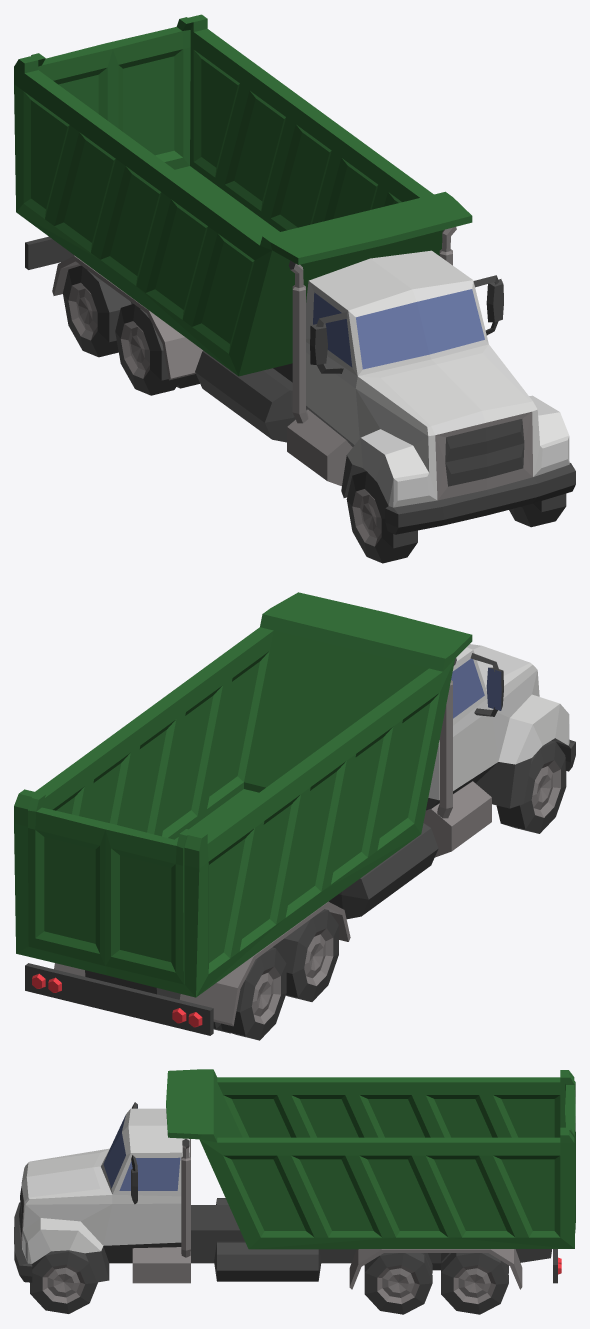
File: car-truck-dump.fbx
3 views of the same model, one above another, from view 1: azimuth 30°, elevation 25°; view 2: azimuth 150°, elevation 25°; view 3: azimuth 270°, elevation 25° (orthographic). The views are drawn at different scales.
Visible parts, largest first — view 1: car-truck-dump-base, car-truck-dump-wheel_BR2, car-truck-dump-wheel_BR1, car-truck-dump-wheel_FR, car-truck-dump-wheel_FL; view 2: car-truck-dump-base, car-truck-dump-wheel_BR1, car-truck-dump-wheel_BR2, car-truck-dump-wheel_FR; view 3: car-truck-dump-base, car-truck-dump-wheel_BL1, car-truck-dump-wheel_BL2, car-truck-dump-wheel_FL.
Part boxes in pixels (box(x1,y1,x2,y2)): car-truck-dump-base: box(14, 14, 575, 534); car-truck-dump-wheel_BR2: box(63, 265, 133, 357); car-truck-dump-wheel_BR1: box(115, 304, 199, 395); car-truck-dump-wheel_FR: box(346, 471, 417, 563); car-truck-dump-wheel_FL: box(509, 493, 566, 527); car-truck-dump-base: box(14, 592, 575, 1035); car-truck-dump-wheel_BR1: box(272, 909, 338, 1001); car-truck-dump-wheel_BR2: box(213, 947, 286, 1040); car-truck-dump-wheel_FR: box(496, 740, 566, 833); car-truck-dump-base: box(14, 1069, 575, 1289); car-truck-dump-wheel_BL1: box(364, 1253, 432, 1314); car-truck-dump-wheel_BL2: box(441, 1253, 508, 1314); car-truck-dump-wheel_FL: box(30, 1250, 97, 1313).
Size of the model in its own units: 2.57 by 3.19 by 8.94.
